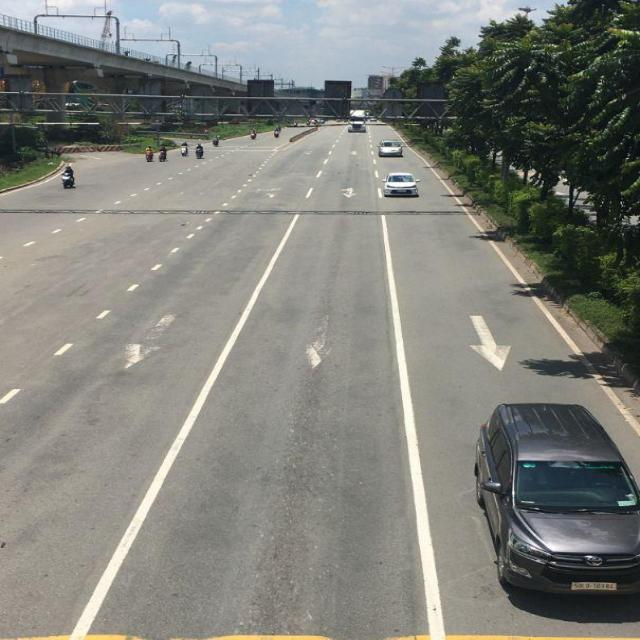car: (472, 402, 639, 598), (386, 174, 421, 198), (379, 139, 401, 157)
motorcycle: (60, 164, 76, 187)
